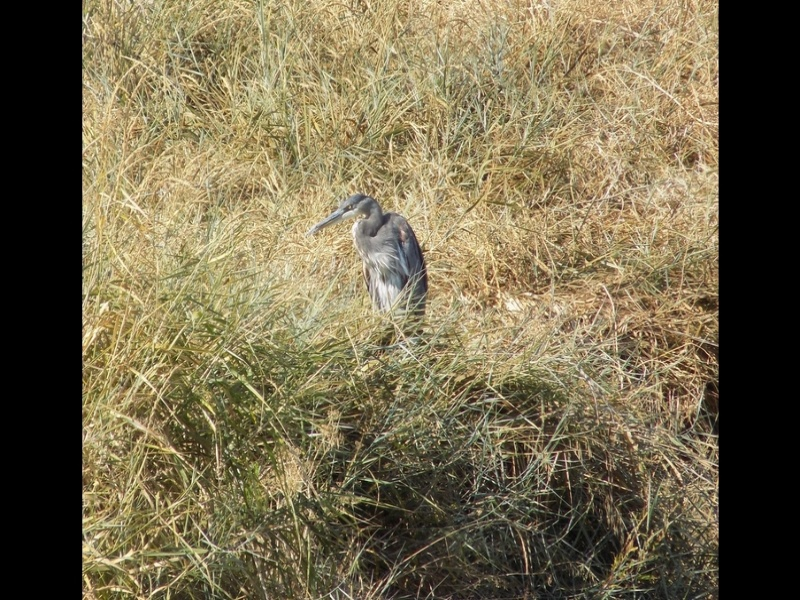heron: (310, 191, 428, 351)
